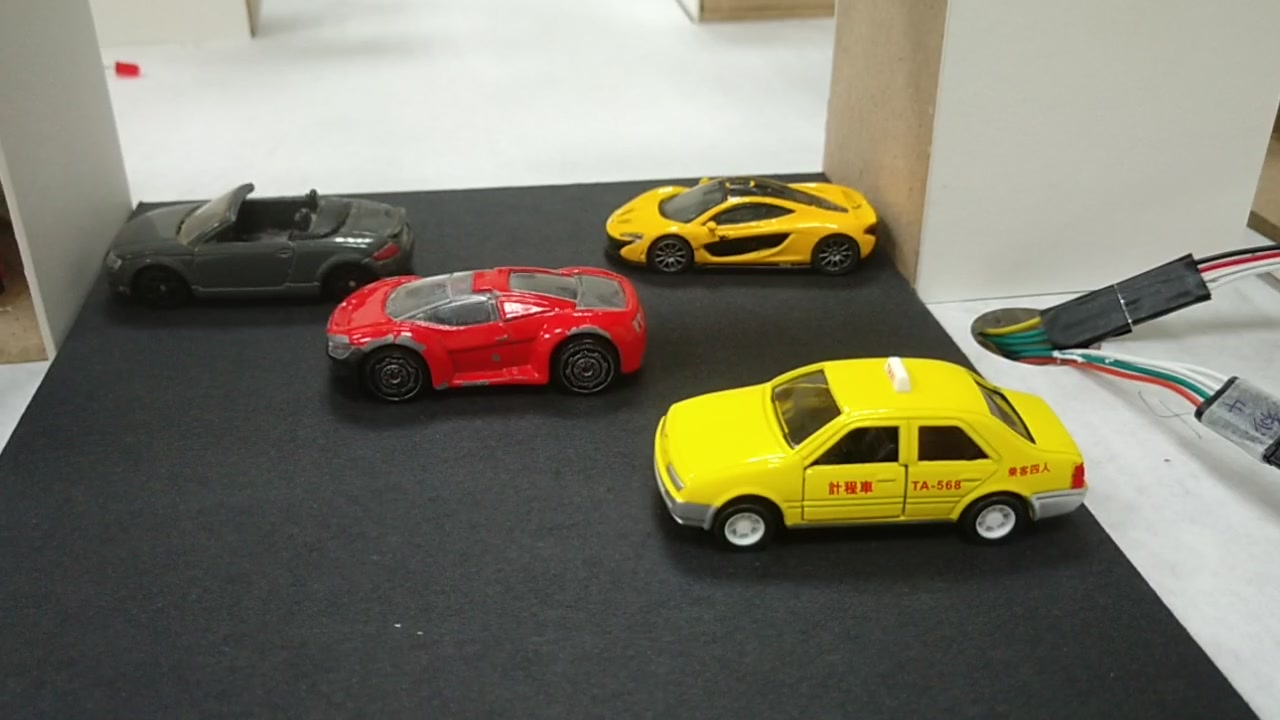car: (657, 357, 1085, 547), (329, 274, 646, 387), (112, 194, 414, 297), (604, 180, 880, 279)
